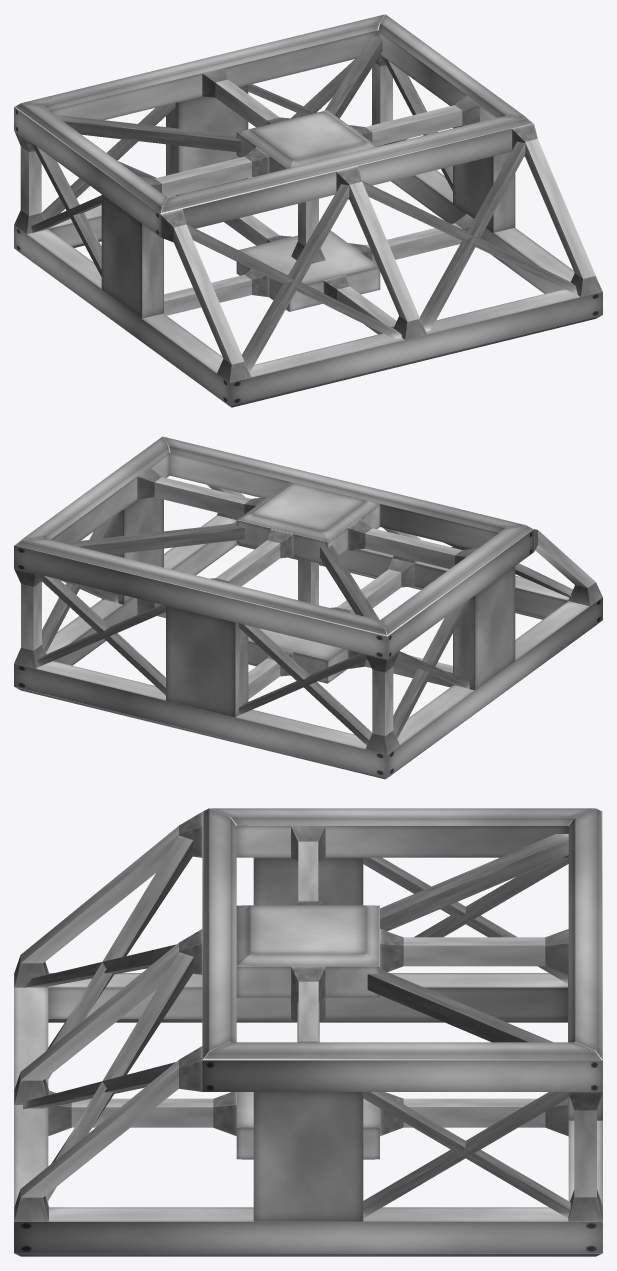
Rendered from ChassisEndu.FBX.
3 views of the same model, one above another, from view 1: azimuth 30°, elevation 25°; view 2: azimuth 150°, elevation 25°; view 3: azimuth 270°, elevation 25° (orthographic). The views are drawn at different scales.
Parts seen in each view (by area): view 1: Frame001, Frame002, SideHardpoint001, TopHardpoint001, TopHardpoint002, Pilar013, SideHardpoint004, Pilar015, Pilar014, SideHardpoint003, Bracing021, Bracing017 (+20 smaller); view 2: Frame001, Frame002, SideHardpoint004, TopHardpoint001, SideHardpoint001, Bracing018, Pilar008, Pilar006, Pilar001, SideHardpoint003, Bracing009, TopHardpoint002 (+15 smaller); view 3: Frame001, Frame002, SideHardpoint003, TopHardpoint001, Pilar014, Pilar005, Pilar015, Pilar013, Bracing017, SideHardpoint001, Pilar011, Pilar016 (+13 smaller).
Part boxes in pixels (x1,y1,x2,y2): Frame001: [14, 14, 533, 236]; Frame002: [14, 170, 602, 407]; SideHardpoint001: [101, 194, 163, 318]; TopHardpoint001: [236, 110, 377, 173]; TopHardpoint002: [236, 230, 380, 311]; Pilar013: [160, 209, 251, 382]; SideHardpoint004: [166, 85, 248, 195]; Pilar015: [336, 166, 426, 339]; Pilar014: [512, 123, 602, 296]; SideHardpoint003: [453, 125, 515, 232]; Bracing021: [419, 141, 525, 331]; Bracing017: [55, 114, 241, 152]; Frame001: [14, 436, 533, 659]; Frame002: [14, 515, 602, 779]; SideHardpoint004: [166, 605, 248, 717]; TopHardpoint001: [236, 482, 380, 564]; SideHardpoint001: [453, 566, 515, 690]; Bracing018: [63, 523, 244, 554]; Pilar008: [137, 467, 268, 517]; Pilar006: [347, 518, 478, 568]; Pilar001: [365, 650, 399, 754]; SideHardpoint003: [102, 497, 163, 604]; Bracing009: [238, 623, 372, 745]; TopHardpoint002: [248, 628, 347, 683]; Frame001: [202, 808, 602, 1091]; Frame002: [14, 973, 602, 1256]; SideHardpoint003: [253, 1092, 363, 1221]; TopHardpoint001: [236, 905, 379, 997]; Pilar014: [14, 1046, 202, 1221]; Pilar005: [380, 929, 568, 974]; Pilar015: [14, 929, 202, 1104]; Pilar013: [14, 812, 202, 987]; Bracing017: [380, 834, 568, 931]; SideHardpoint001: [253, 857, 363, 905]; Pilar011: [380, 1092, 568, 1136]; Pilar016: [48, 1090, 236, 1135].
Size of what is drawn, in the model's own units: 0.846 by 0.3261 by 0.8462.
